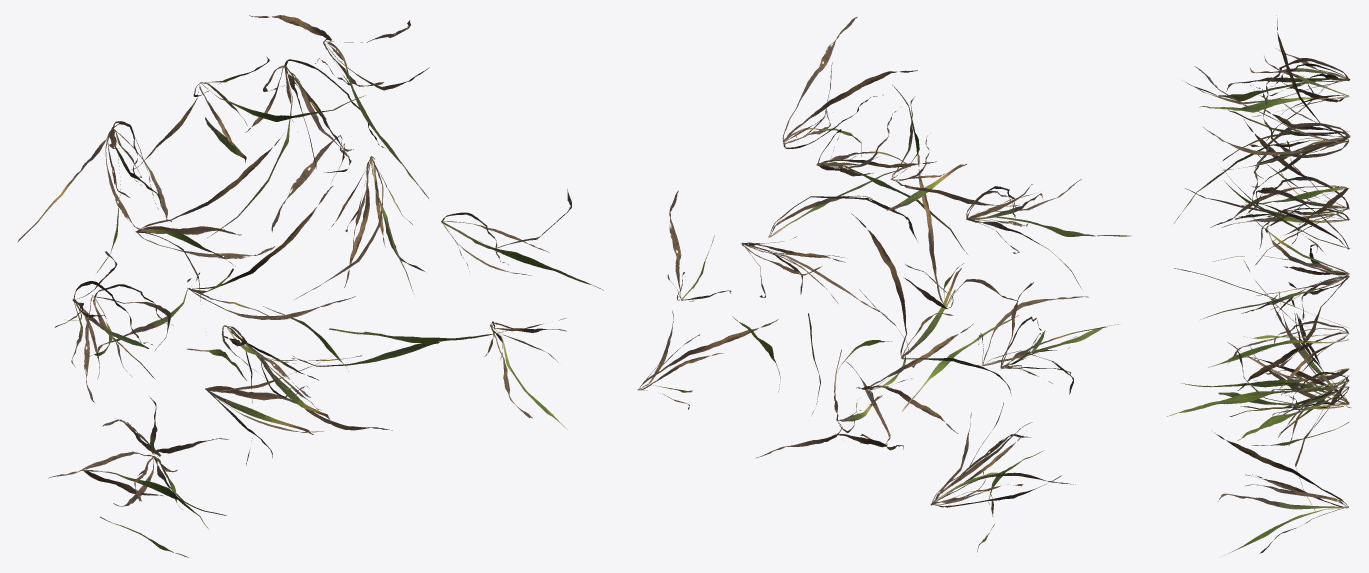
File: Grass_03_Var2_LOD0.fbx
3 views of the same model, side by side, from view 1: azimuth 30°, elevation 25°; view 2: azimuth 150°, elevation 25°; view 3: azimuth 270°, elevation 25° (orthographic). The views are drawn at different scales.
Parts seen in each view (by area): view 1: Var2_LOD0; view 2: Var2_LOD0; view 3: Var2_LOD0.
Part boxes in pixels (x1,y1,x2,y2): Var2_LOD0: (17, 15, 603, 557); Var2_LOD0: (637, 16, 1132, 552); Var2_LOD0: (1167, 15, 1351, 556).
Bounding box in the file's own units: 60.21 × 57.61 × 21.13.
